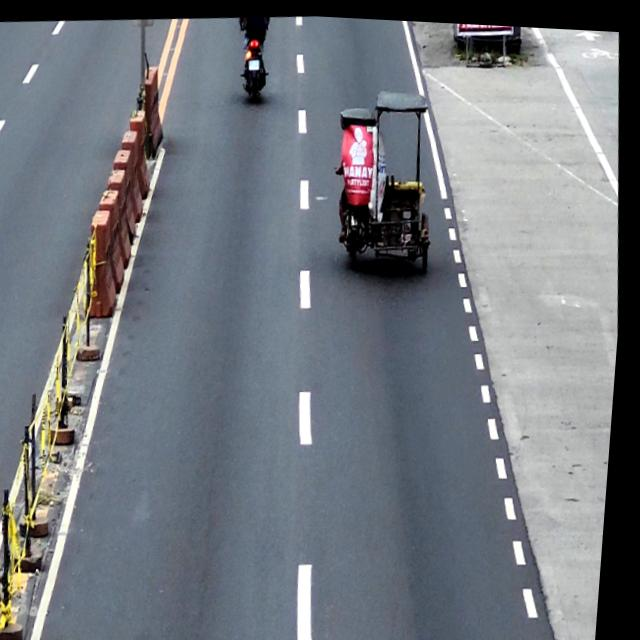License-Plate: (248, 55, 261, 68)
Motorcycle: (237, 16, 273, 102)
Tricycle: (330, 95, 445, 274)
